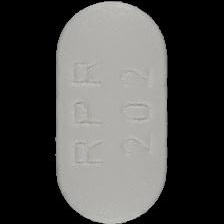0075-7700: (0, 0, 224, 224)
